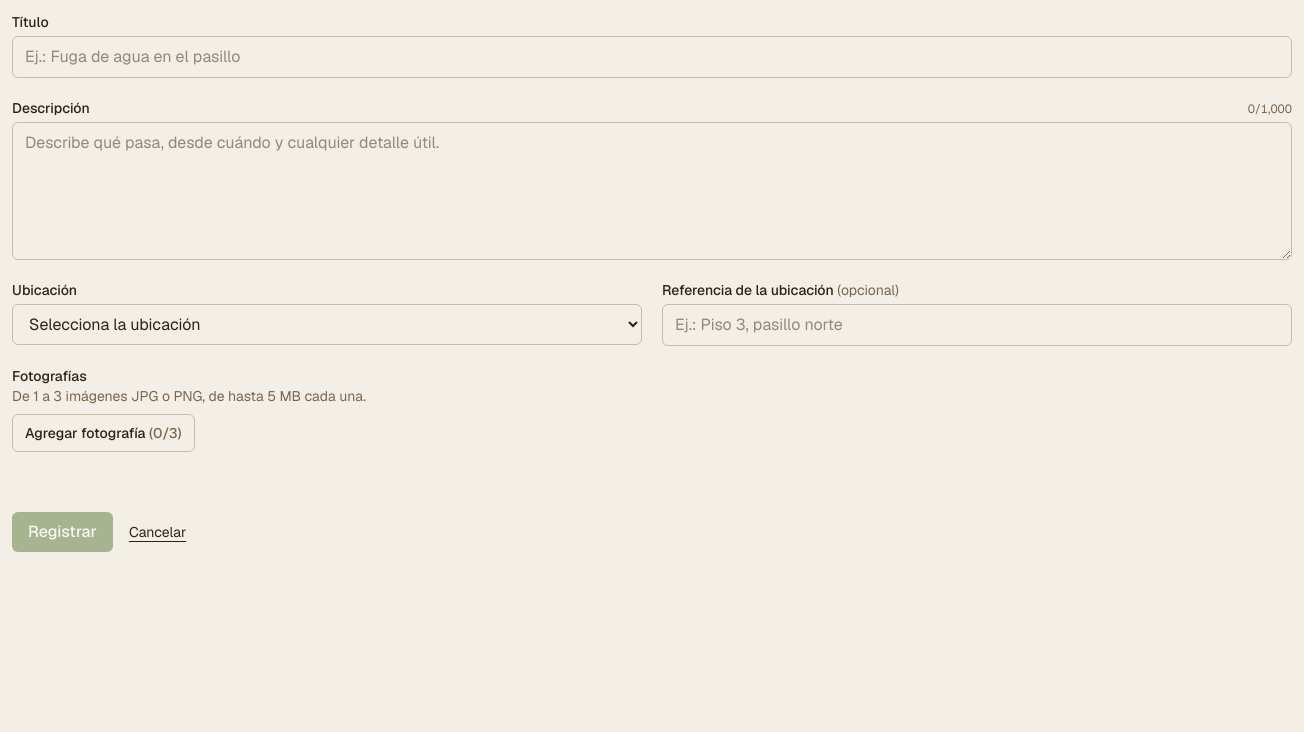
it: H10. Registro de incidencia con evidencia › AC1: sin fotografías pide al menos una y no deja registrar
Type "Fuga de agua" into the field labelled "Título" at (652, 57), box [12, 36, 1292, 78]
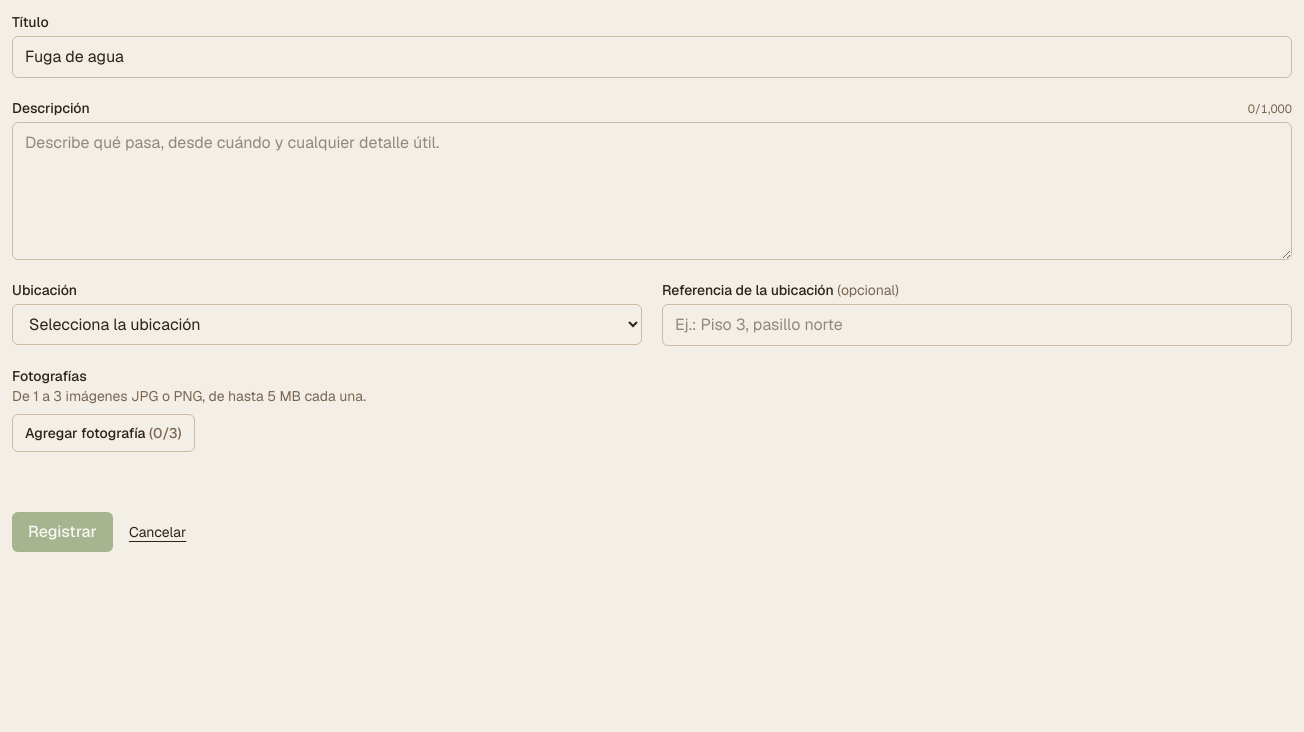
Type "Gotea agua del techo del pasillo." into the text box labelled "Descripción" at (652, 191), box [12, 122, 1292, 260]
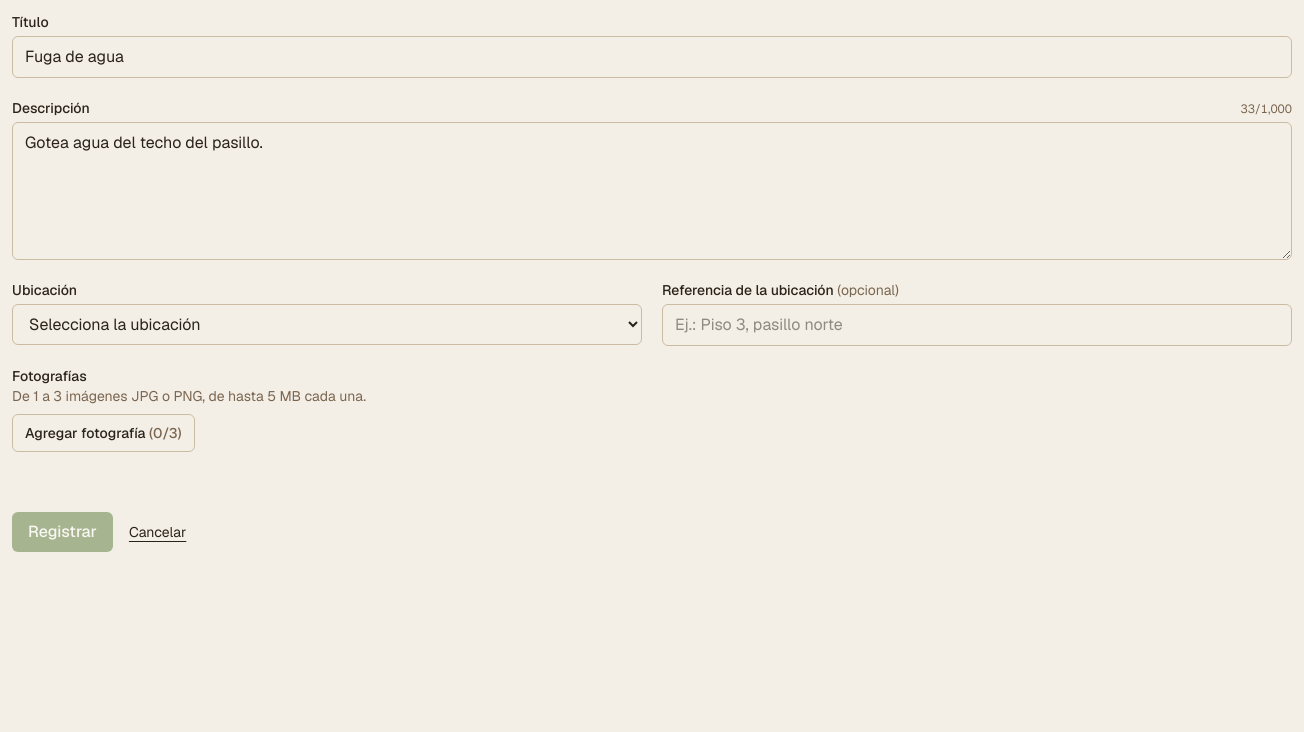
Select "Torre A" in the dropdown labelled "Ubicación" at (327, 324), box [12, 304, 642, 345]
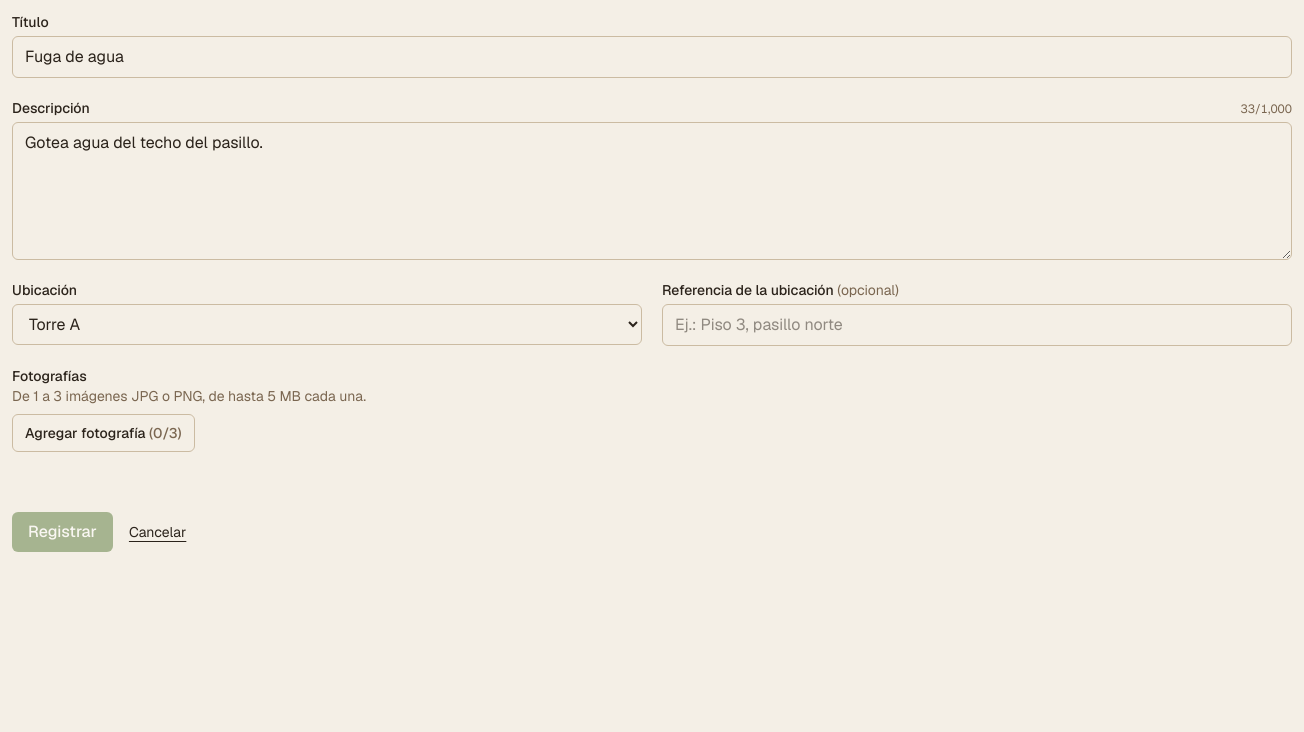
Submit the form named "Registrar"
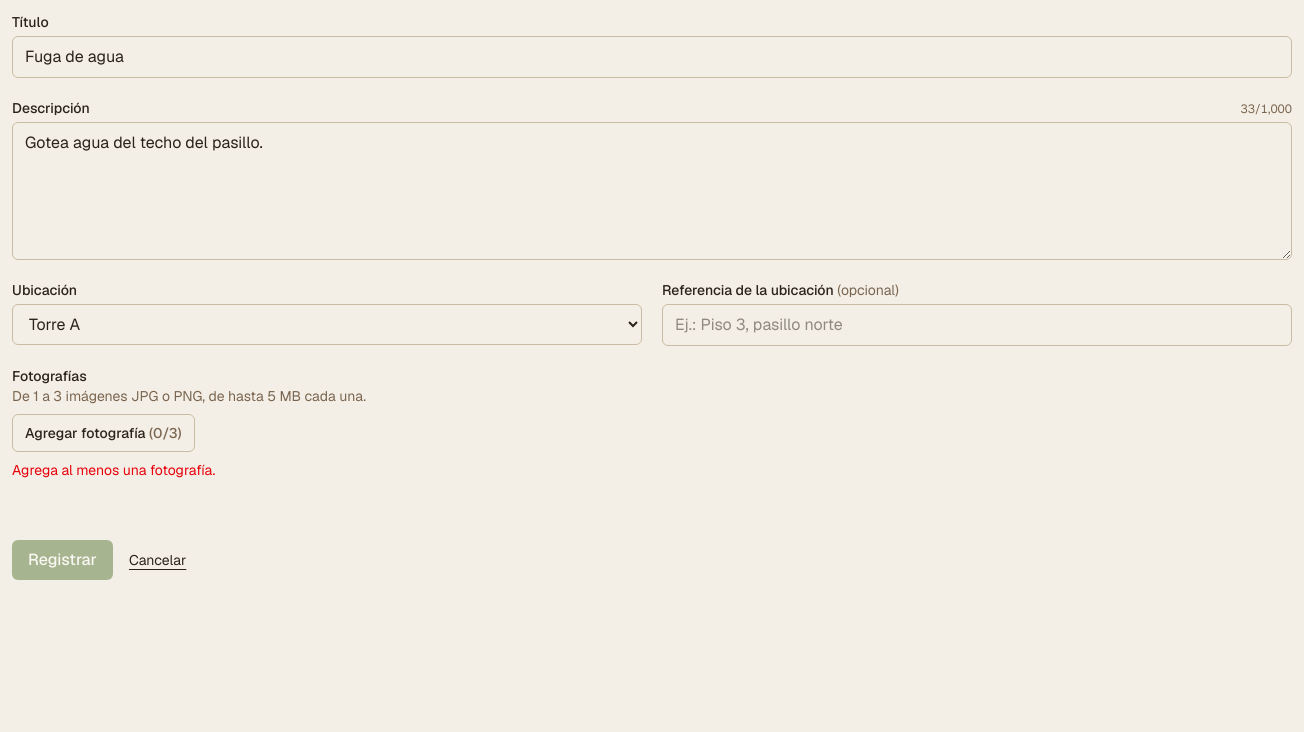
Expected: the text "Agrega al menos una fotografía." is shown, [12, 461, 215, 479]
